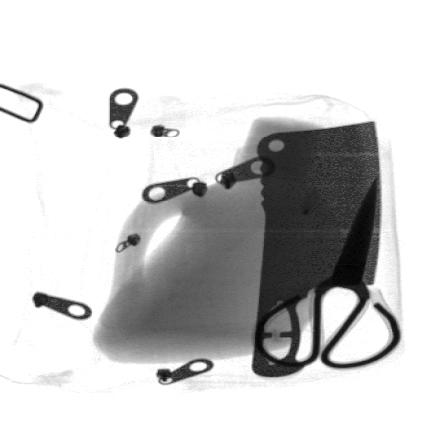Knife: (250, 121, 382, 378)
Scissors: (255, 176, 403, 371)
